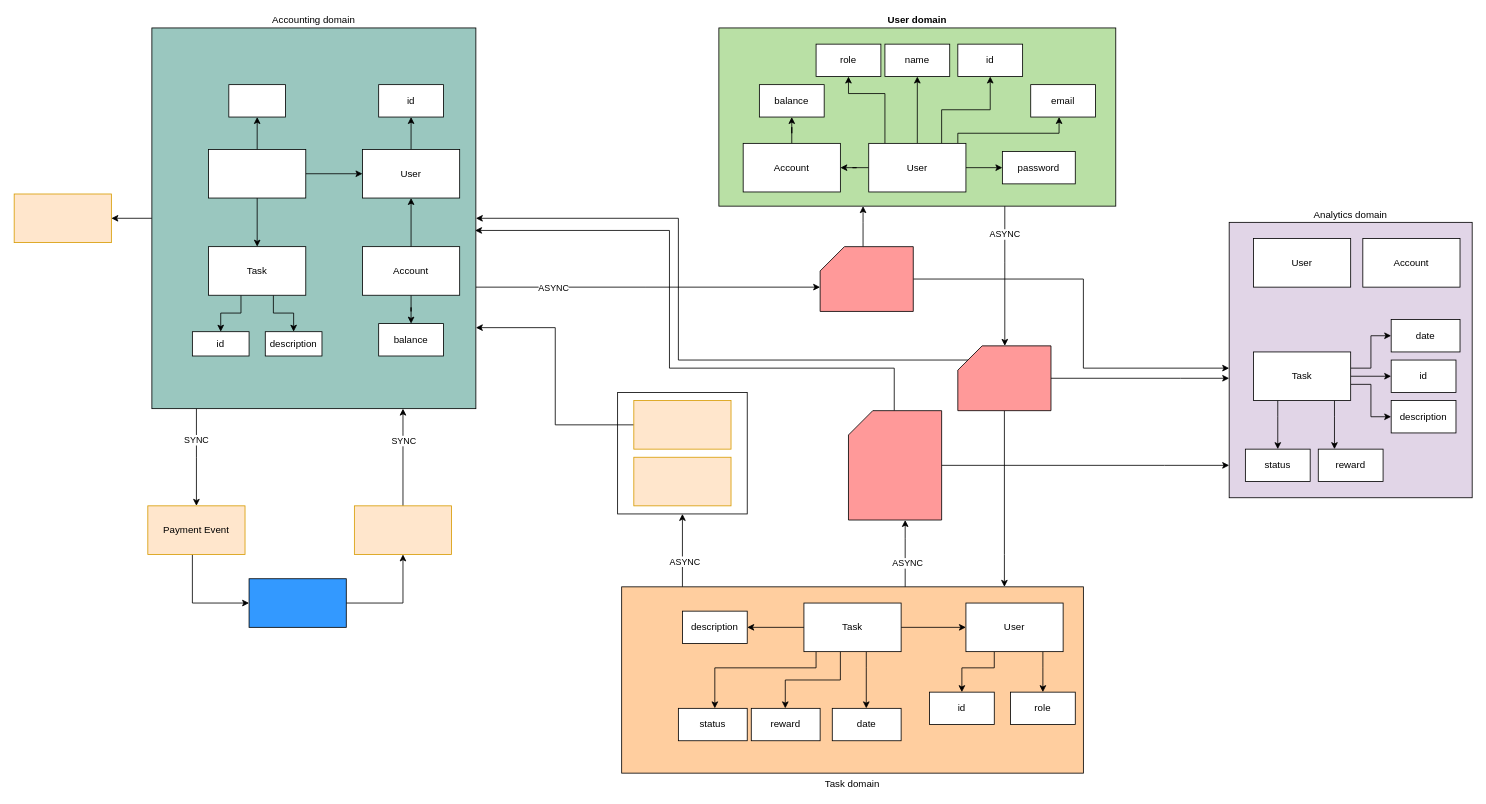
This 1486x804 diagram has some shape labels left out. The centre of each missing label's shape, as x and y in pixels:
"Account CUD balance" belongs at pixel 866 278.
"AuditLog" belongs at pixel 257 173.
"Billing" belongs at pixel 297 602.
"money amount" belongs at pixel 257 100.
"Notification Success" belongs at pixel 62 218.
"Payment Success" belongs at pixel 403 529.
"TASK CUD status description reward date" belongs at pixel 895 465.
"Task.Assigned" belongs at pixel 682 424.
"Task.Done" belongs at pixel 682 481.
"USER CUD role" belongs at pixel 1004 378.
